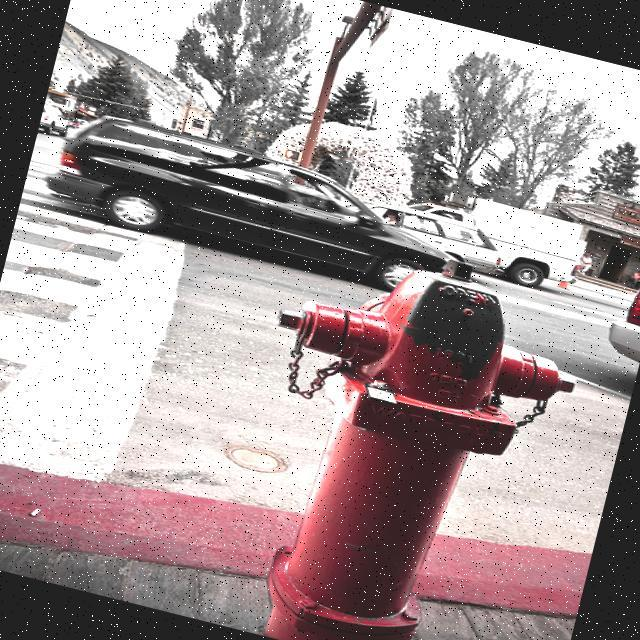fire_hydrant: (197, 215, 608, 640)
